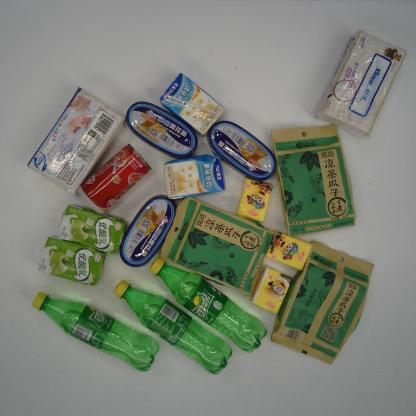Canned Food: (76, 143, 152, 216), (207, 119, 278, 182), (124, 100, 199, 159), (119, 193, 176, 268)
Dried Food: (269, 239, 375, 366), (159, 195, 275, 296), (269, 122, 357, 236)
Drink: (113, 278, 233, 376), (149, 256, 268, 354), (31, 291, 160, 372)
Milk: (158, 72, 226, 137), (36, 235, 106, 288), (56, 203, 127, 255), (163, 148, 226, 202)
Tissue: (26, 86, 127, 197), (314, 29, 410, 138), (264, 229, 314, 272), (250, 266, 293, 314), (235, 176, 273, 224)
